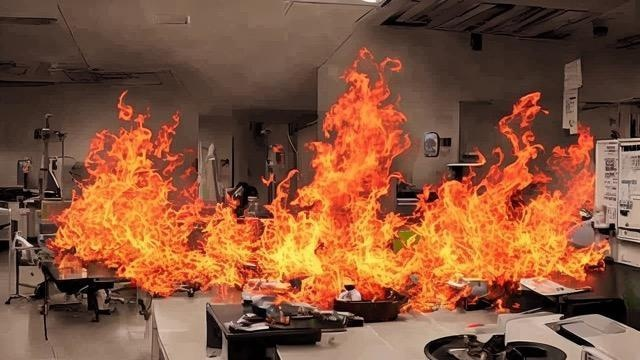fire: (36, 68, 613, 301)
